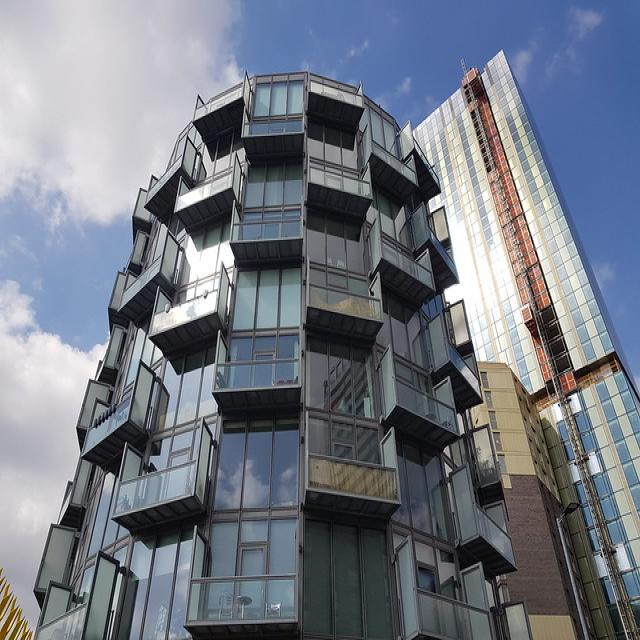building: (28, 66, 615, 640)
